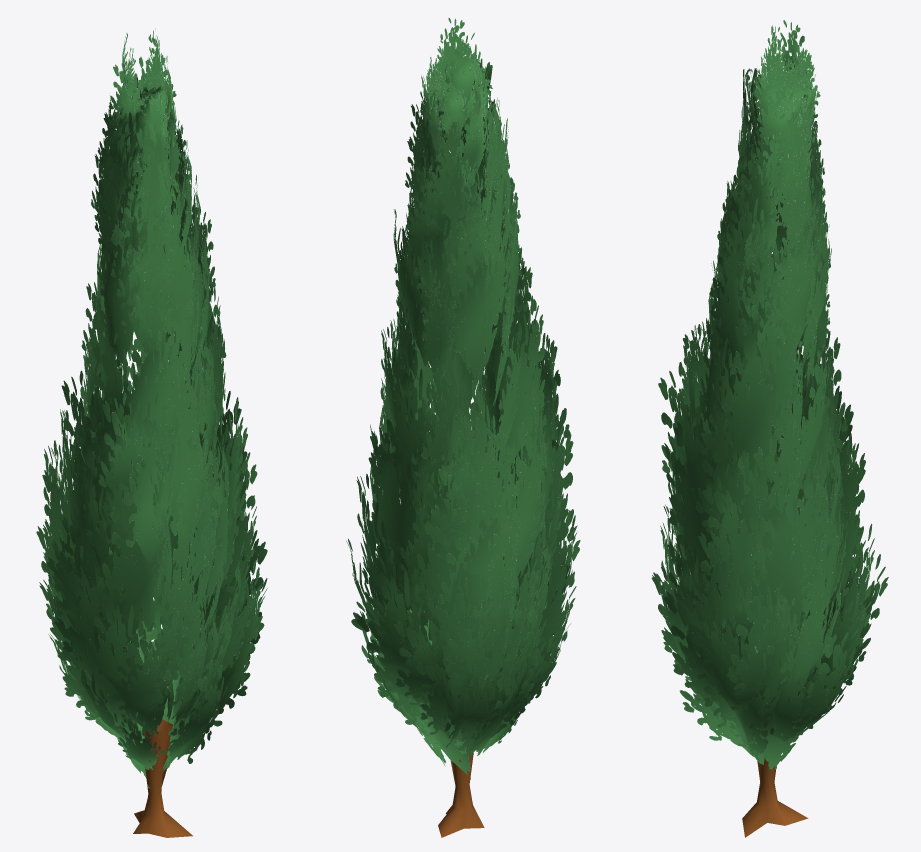
The model's file is Tree_Test03.fbx.
The picture shows the model from 3 angles, left to right: view 1: azimuth 30°, elevation 25°; view 2: azimuth 150°, elevation 25°; view 3: azimuth 270°, elevation 25°; orthographic projection.
Parts seen in each view (by area): view 1: Trunk.001; view 2: Trunk.001; view 3: Trunk.001.
Boxes of the visible parts, <box> form: Trunk.001: <box>36,28,267,837</box>; Trunk.001: <box>346,18,580,837</box>; Trunk.001: <box>651,20,888,837</box>.
Bounding box in the file's own units: 368 × 1139 × 359.
2 materials, 1 textured.
